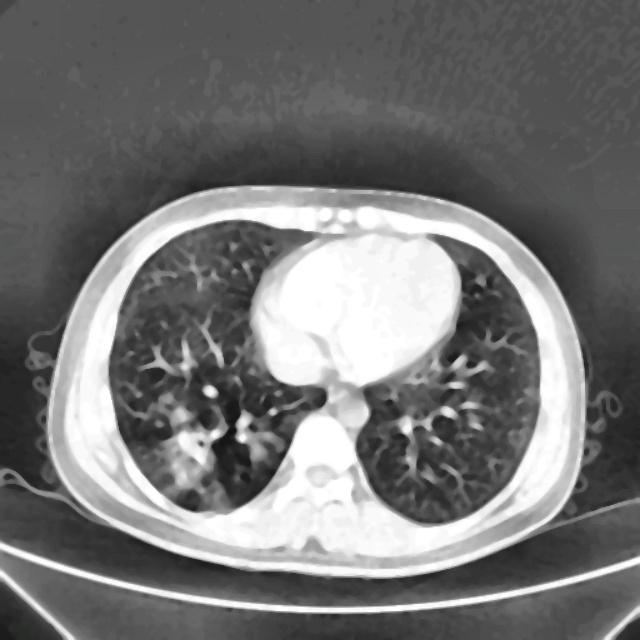covid: (44, 184, 586, 575)
